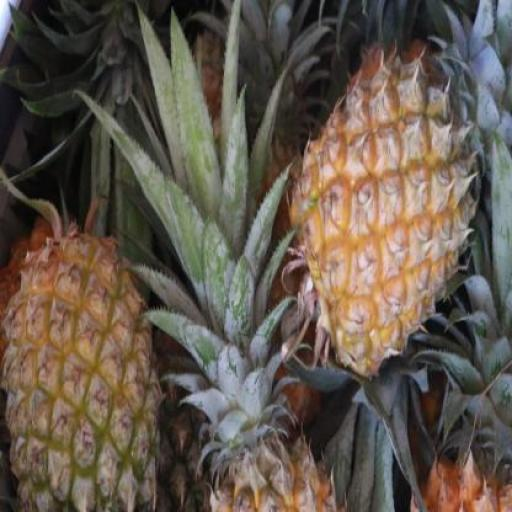------------------------------: (0, 230, 162, 512)
Pineapple - v8 v1: (286, 56, 488, 376)
